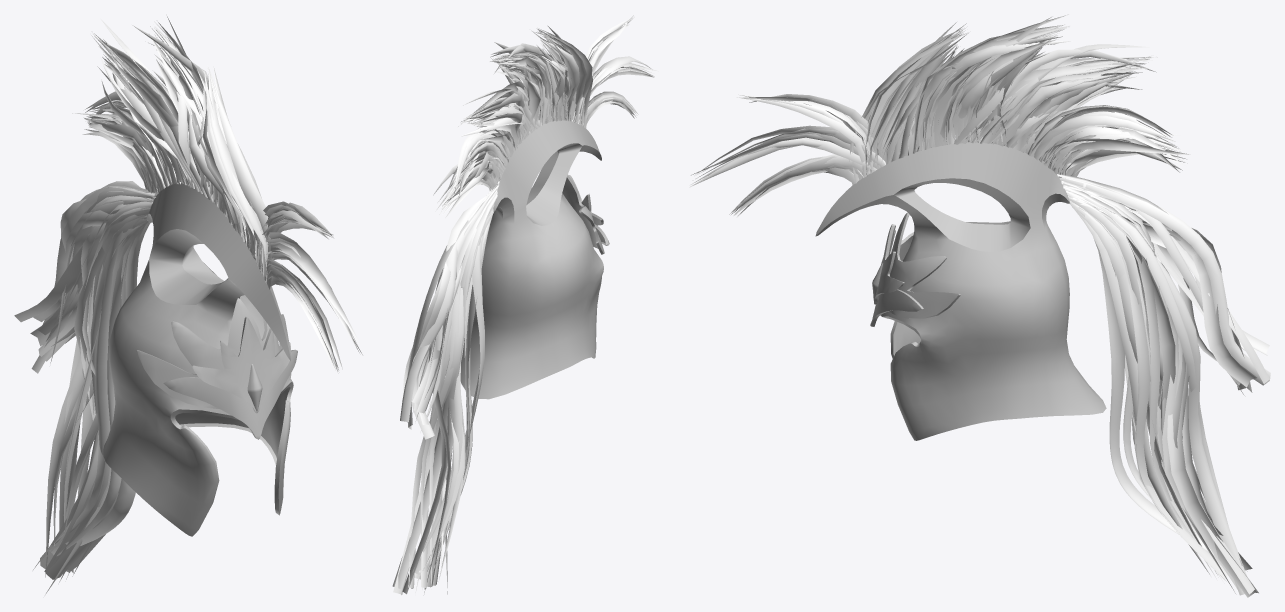
Rendered from am_golden_flower_knight_helmet_a01_mohawk.fbx.
3 views of the same model, side by side, from view 1: azimuth 30°, elevation 25°; view 2: azimuth 150°, elevation 25°; view 3: azimuth 270°, elevation 25° (orthographic). The views are drawn at different scales.
Parts seen in each view (by area): view 1: am_golden_flower_knight_helmet_a01_mohawk.lod0.1, am_golden_flower_knight_helmet_a01_mohawk.lod0.0; view 2: am_golden_flower_knight_helmet_a01_mohawk.lod0.1, am_golden_flower_knight_helmet_a01_mohawk.lod0.0; view 3: am_golden_flower_knight_helmet_a01_mohawk.lod0.1, am_golden_flower_knight_helmet_a01_mohawk.lod0.0.
Boxes of the visible parts, left/top/right/bottom form: am_golden_flower_knight_helmet_a01_mohawk.lod0.1: left=14, top=16, right=362, bottom=594; am_golden_flower_knight_helmet_a01_mohawk.lod0.0: left=103, top=183, right=297, bottom=536; am_golden_flower_knight_helmet_a01_mohawk.lod0.1: left=392, top=15, right=658, bottom=594; am_golden_flower_knight_helmet_a01_mohawk.lod0.0: left=460, top=120, right=609, bottom=399; am_golden_flower_knight_helmet_a01_mohawk.lod0.1: left=689, top=14, right=1270, bottom=597; am_golden_flower_knight_helmet_a01_mohawk.lod0.0: left=815, top=142, right=1106, bottom=440.
Bounding box in the file's own units: 0.2071 × 0.7819 × 0.8592.
